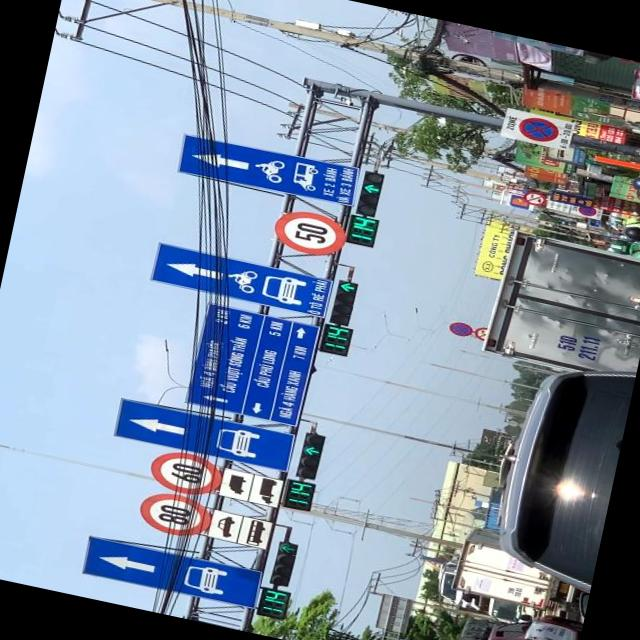P-127: (270, 204, 348, 260)
